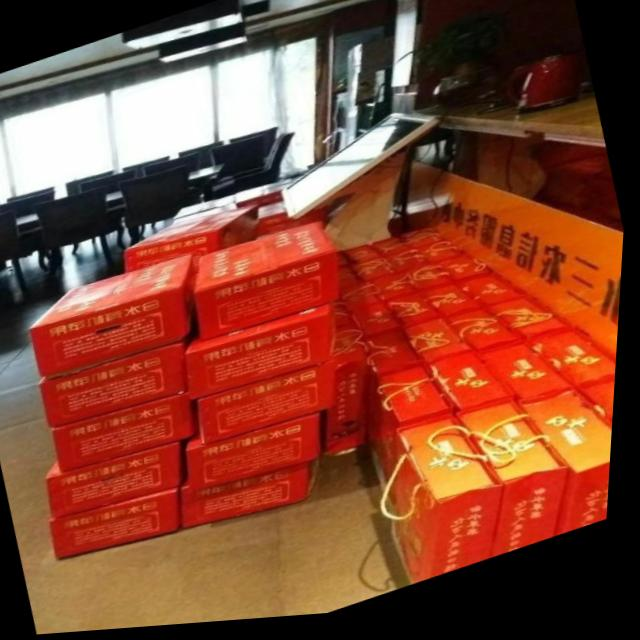box: (34, 258, 193, 380), (193, 226, 342, 346), (190, 304, 340, 405), (202, 362, 341, 451), (48, 345, 191, 431), (56, 396, 201, 477), (191, 416, 326, 496), (48, 445, 183, 522), (55, 488, 186, 562), (129, 206, 263, 275), (184, 466, 318, 533)
